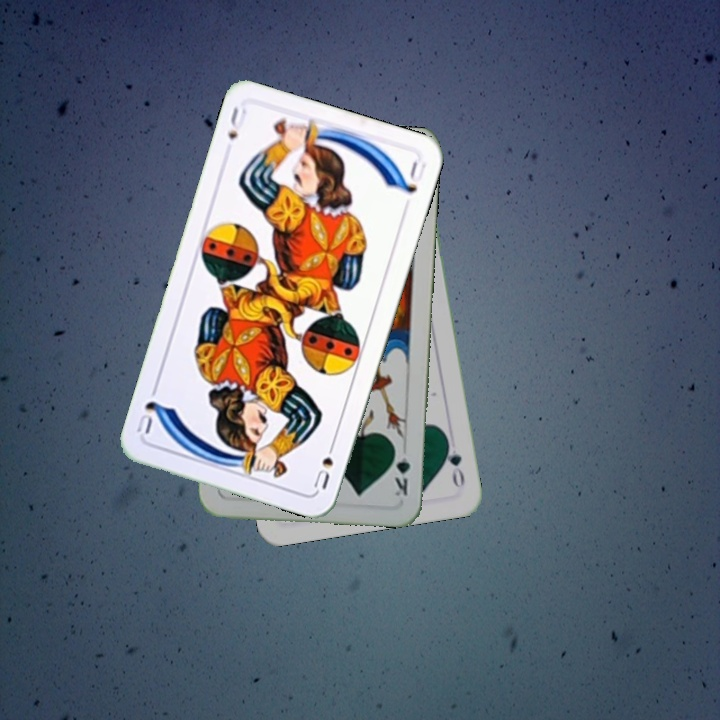GK: (389, 442, 412, 499)
GO: (441, 433, 468, 491)
SU: (309, 435, 338, 492), (224, 102, 246, 142)
